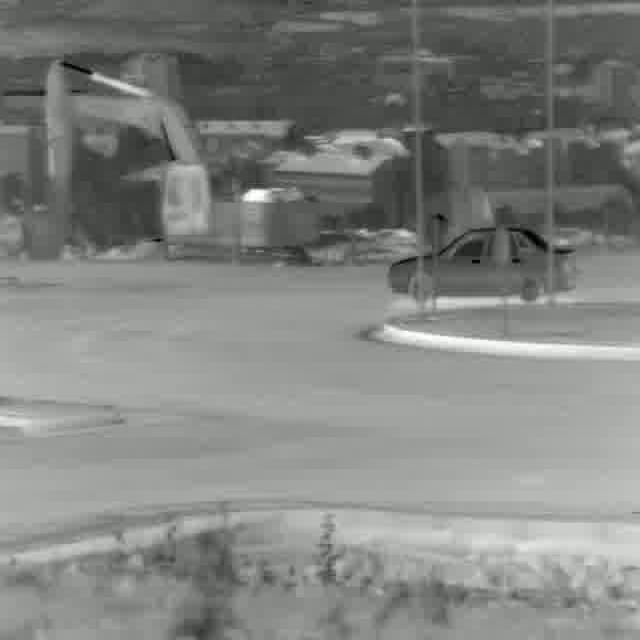Car: (388, 227, 578, 300)
